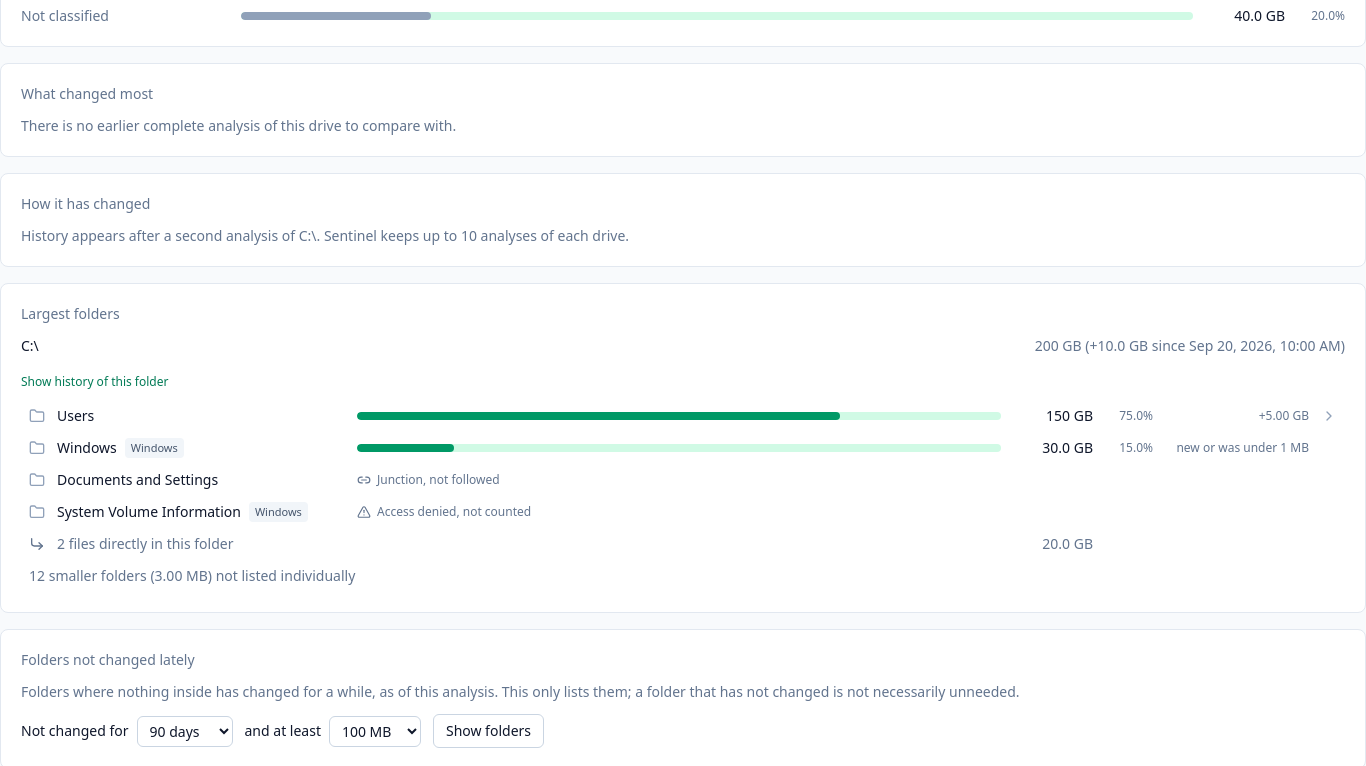
Test: Storage analysis › loads a folder's history only when asked, and shows the drive's history panel
(page scrolled)
Expected: the heading "How it has changed" is shown, [21, 194, 150, 213]
Expected: the text "History appears after a second analysis" is shown, [21, 226, 299, 245]
Click the button "Show history of this folder".
click(95, 382)  # box [21, 374, 168, 390]
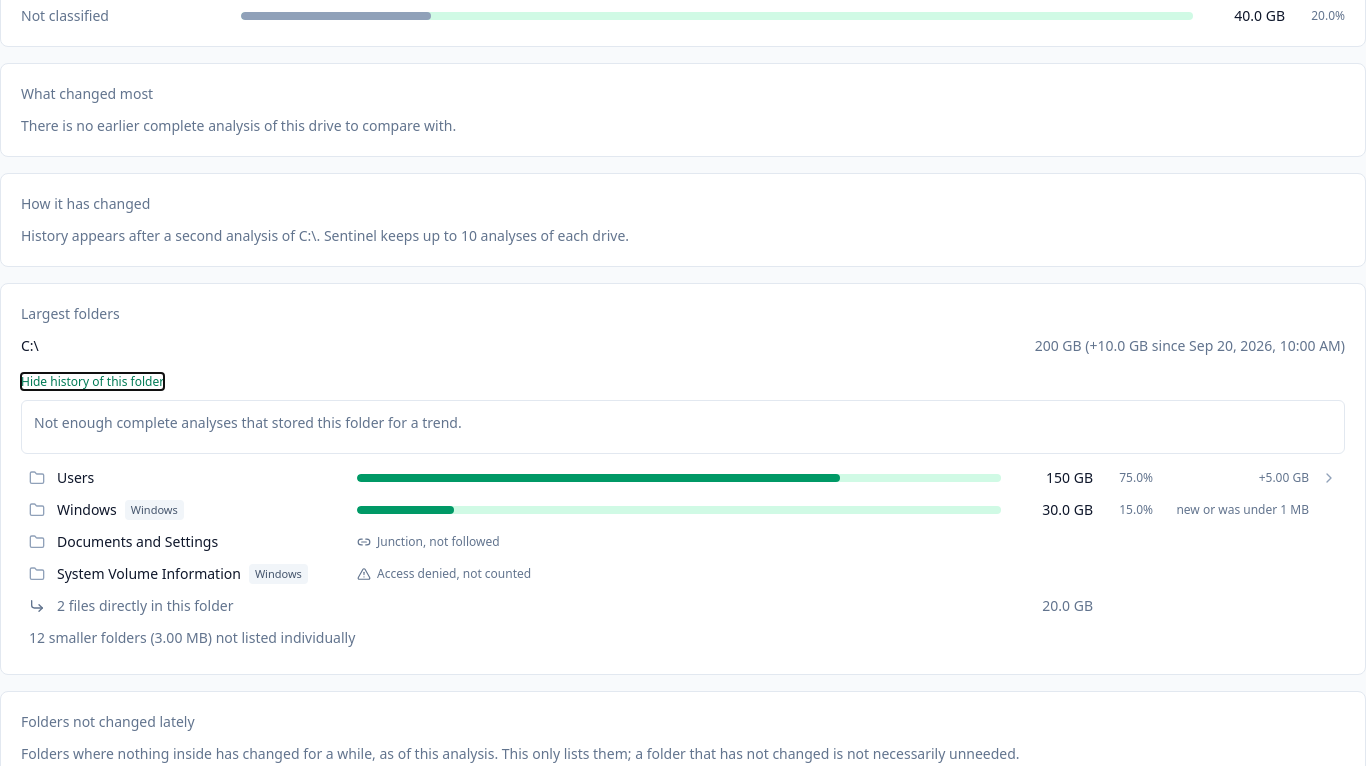
Expected: the button "Hide history of this folder" is shown, [21, 374, 164, 390]
